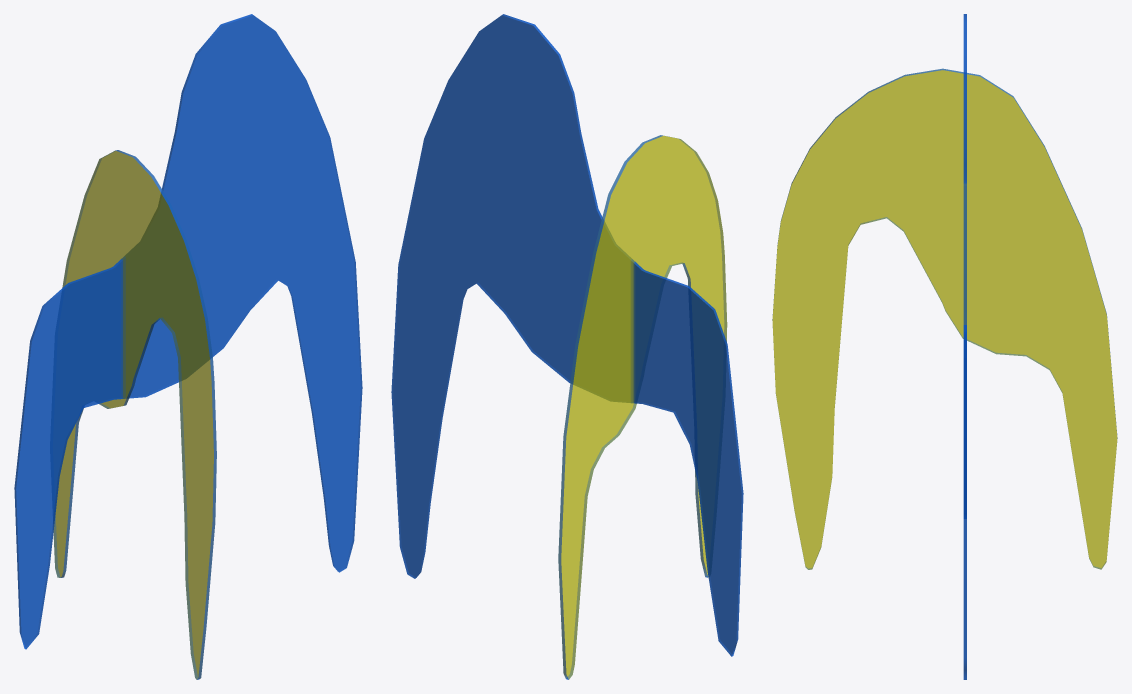
Rendered from mads_01.glb.
3 renders of one model, left to right at view 1: azimuth 30°, elevation 25°; view 2: azimuth 150°, elevation 25°; view 3: azimuth 270°, elevation 25°, orthographic. The views are drawn at different scales.
Visible parts, largest first — view 1: Model_01_Shihab; view 2: Model_01_Shihab; view 3: Model_01_Shihab.
Boxes of the visible parts, left/top/right/bottom form: Model_01_Shihab: left=14, top=14, right=362, bottom=679; Model_01_Shihab: left=391, top=14, right=743, bottom=679; Model_01_Shihab: left=772, top=14, right=1117, bottom=679.
Size of the model in its own units: 44.7 by 71.39 by 36.68.
